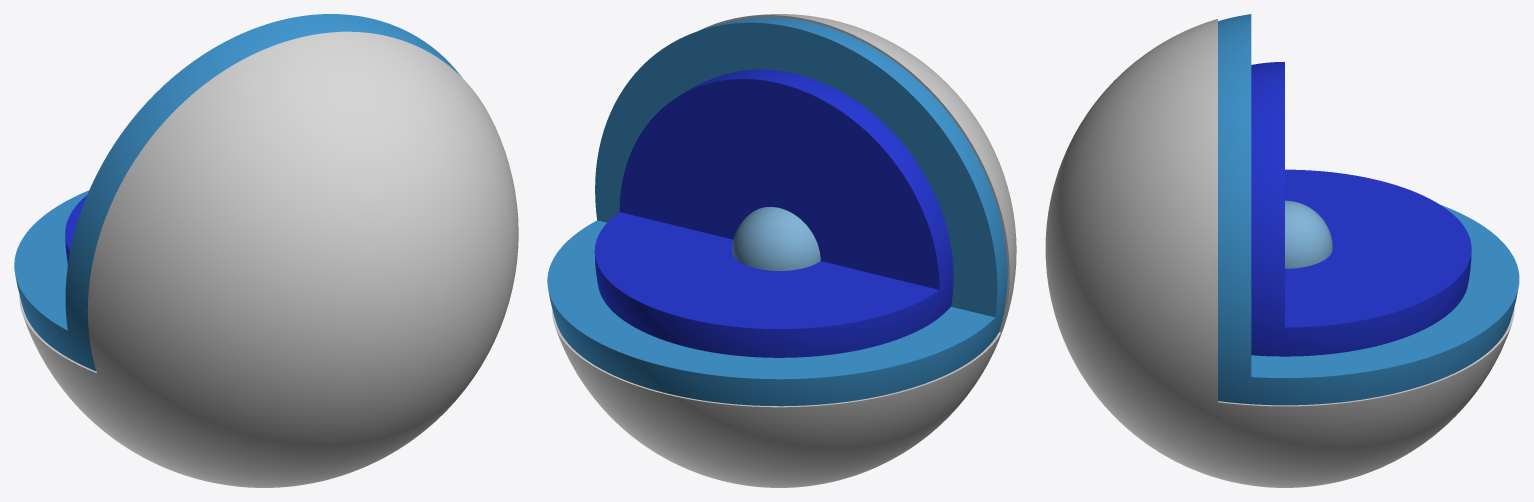
File: GasPlanet.fbx
The picture shows the model from 3 angles, left to right: view 1: azimuth 30°, elevation 25°; view 2: azimuth 150°, elevation 25°; view 3: azimuth 270°, elevation 25°; orthographic projection. The views are drawn at different scales.
Parts seen in each view (by area): view 1: GasPlanet, GasPlanetExterior; view 2: GasPlanetInner, GasPlanetExterior, GasPlanet, GasPlanetCore; view 3: GasPlanet, GasPlanetInner, GasPlanetExterior, GasPlanetCore.
Part boxes in pixels (x1,y1,x2,y2): GasPlanet: (19, 31, 518, 487); GasPlanetExterior: (14, 14, 462, 371); GasPlanetInner: (594, 69, 953, 357); GasPlanetExterior: (547, 17, 1007, 406); GasPlanet: (552, 14, 1016, 487); GasPlanetCore: (732, 207, 820, 270); GasPlanet: (1045, 19, 1514, 487); GasPlanetInner: (1251, 62, 1471, 356); GasPlanetExterior: (1218, 14, 1519, 405); GasPlanetCore: (1285, 200, 1332, 268).
Size of the model in its own units: 1401 by 1415 by 1415.
